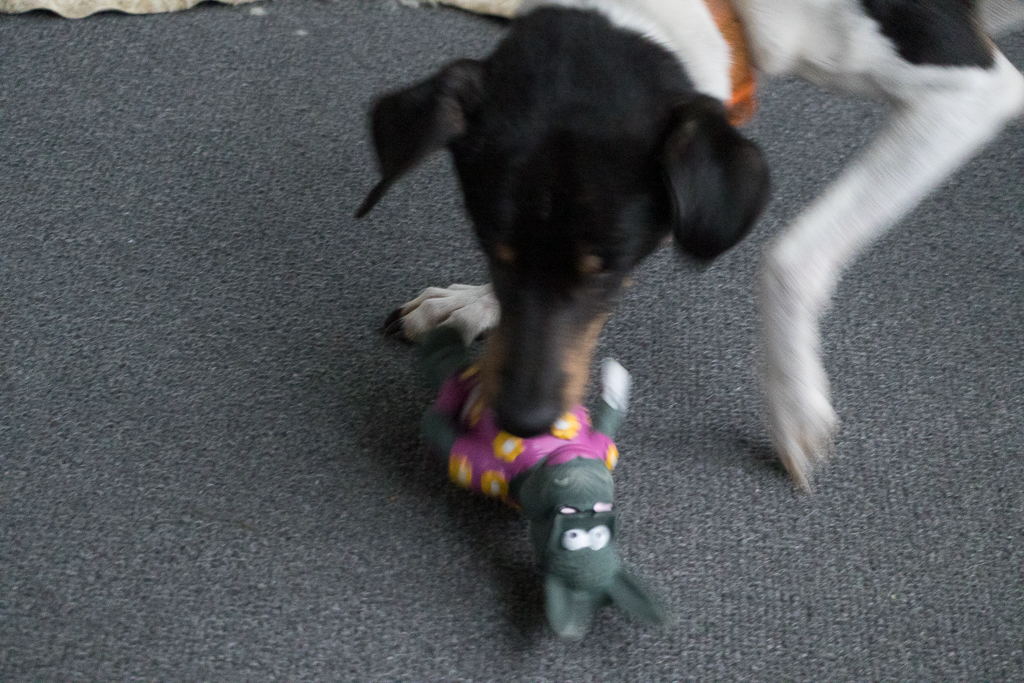Dog: (332, 0, 1024, 501)
Humanoid: (396, 304, 697, 667)
